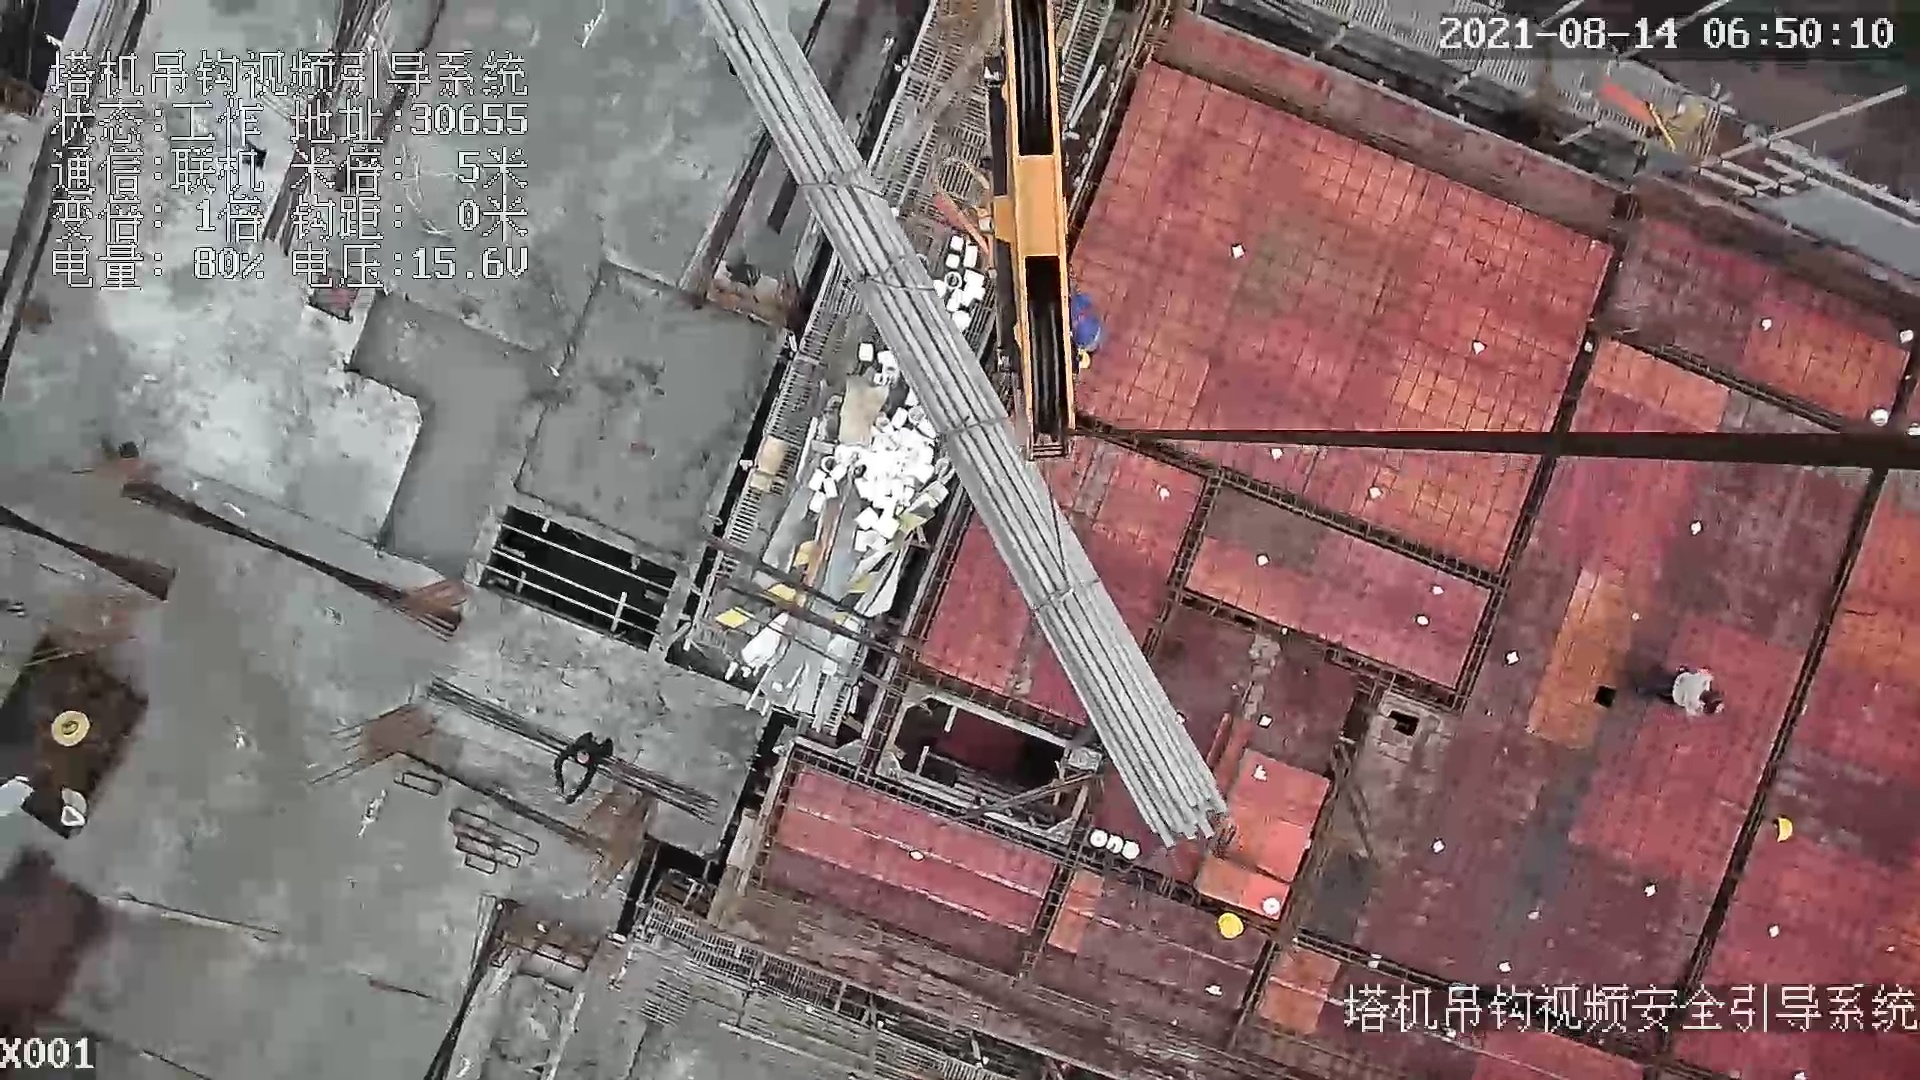helmet: (1216, 910, 1259, 968), (1772, 806, 1803, 849)
hook: (929, 1, 1081, 469)
person: (546, 728, 619, 809), (1638, 663, 1726, 723)
